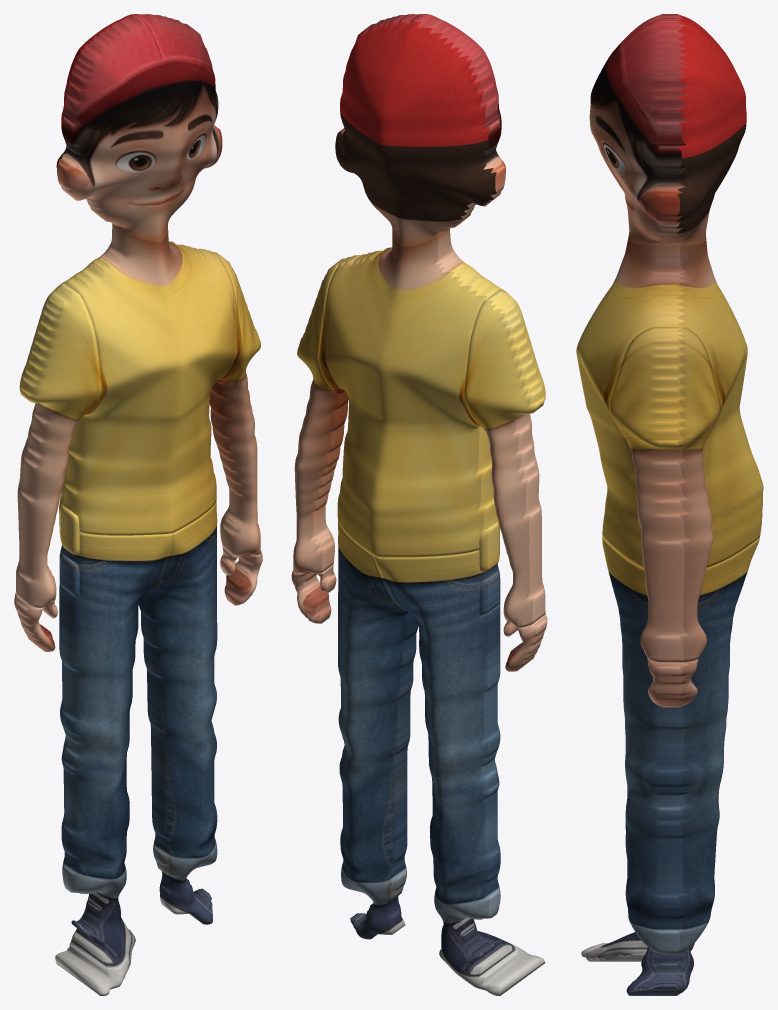
File: kid3d.glb
3 views of the same model, side by side, from view 1: azimuth 30°, elevation 25°; view 2: azimuth 150°, elevation 25°; view 3: azimuth 270°, elevation 25° (orthographic). The views are drawn at different scales.
Parts seen in each view (by area): view 1: Body, LegL, LegR, ArmL, ArmR; view 2: Body, LegL, LegR, ArmL, ArmR; view 3: Body, LegR, ArmR, LegL.
Boxes of the visible parts, x1=… form: Body: x1=56, y1=14, x2=242, y2=535; LegL: x1=14, y1=517, x2=173, y2=995; LegR: x1=139, y1=500, x2=262, y2=924; ArmL: x1=15, y1=283, x2=101, y2=607; ArmR: x1=209, y1=251, x2=260, y2=556; Body: x1=319, y1=14, x2=505, y2=557; LegL: x1=375, y1=550, x2=547, y2=995; LegR: x1=291, y1=520, x2=418, y2=939; ArmL: x1=464, y1=289, x2=545, y2=627; ArmR: x1=293, y1=258, x2=348, y2=573; Body: x1=576, y1=14, x2=763, y2=568; LegR: x1=602, y1=537, x2=759, y2=995; ArmR: x1=608, y1=327, x2=720, y2=662; LegL: x1=581, y1=788, x2=694, y2=961.
Size of the model in its own units: 3.42 by 12.82 by 2.23.
Materials: 2 (2 with a texture image).
